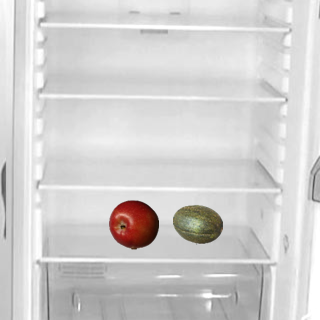Apple Braeburn: (108, 199, 158, 249)
Melon Piel de Sapo: (172, 199, 222, 249)
